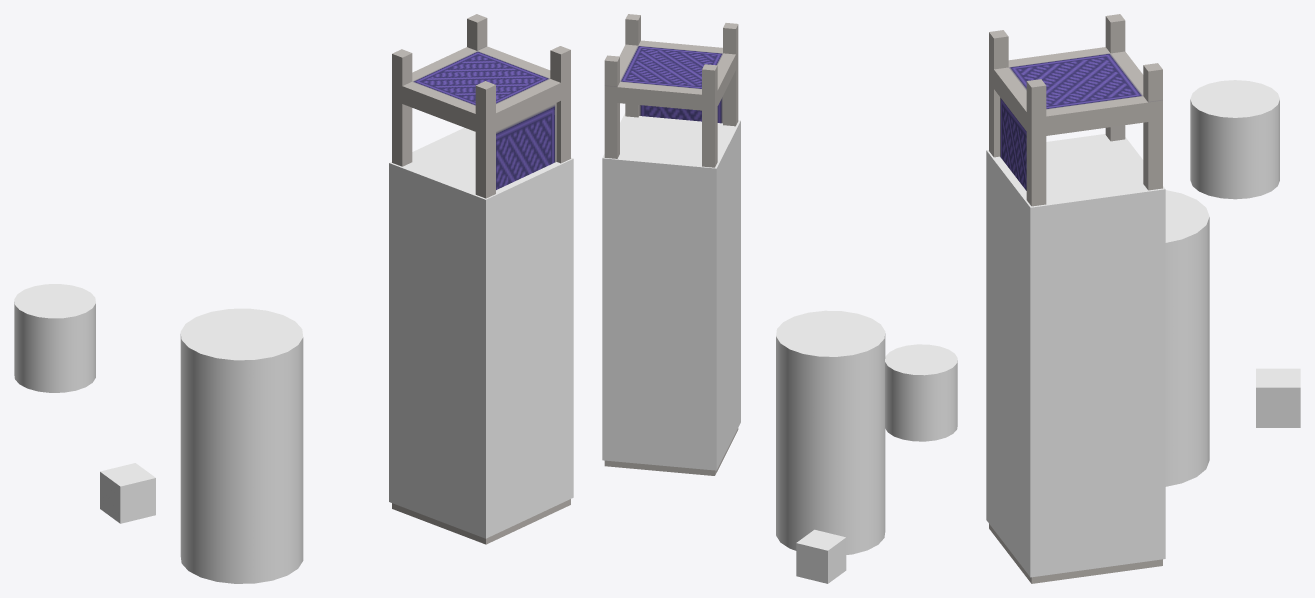
The model's file is Mine.fbx.
3 views of the same model, side by side, from view 1: azimuth 30°, elevation 25°; view 2: azimuth 150°, elevation 25°; view 3: azimuth 270°, elevation 25° (orthographic). The views are drawn at different scales.
Visible parts, largest first — view 1: Elevator, AutoDrill, Elevator_1, Enemy_Cave_In_Entrance_Greybox, Ore; view 2: Elevator, AutoDrill, Elevator_1, Enemy_Cave_In_Entrance_Greybox, Ore; view 3: Elevator, Elevator_1, AutoDrill, Enemy_Cave_In_Entrance_Greybox, Ore.
Boxes of the visible parts, <box> form: Elevator: <box>389,127,573,538</box>; AutoDrill: <box>180,308,303,583</box>; Elevator_1: <box>392,14,570,544</box>; Enemy_Cave_In_Entrance_Greybox: <box>14,284,95,392</box>; Ore: <box>100,463,155,523</box>; Elevator: <box>602,113,740,470</box>; AutoDrill: <box>776,310,885,554</box>; Elevator_1: <box>604,14,738,475</box>; Enemy_Cave_In_Entrance_Greybox: <box>885,344,957,441</box>; Ore: <box>796,529,846,583</box>; Elevator: <box>986,134,1165,577</box>; Elevator_1: <box>989,14,1162,583</box>; AutoDrill: <box>1165,190,1209,486</box>; Enemy_Cave_In_Entrance_Greybox: <box>1190,80,1279,199</box>; Ore: <box>1256,368,1300,427</box>.
Size of what is drawn, in the model's own units: 1293 by 1281 by 701.
